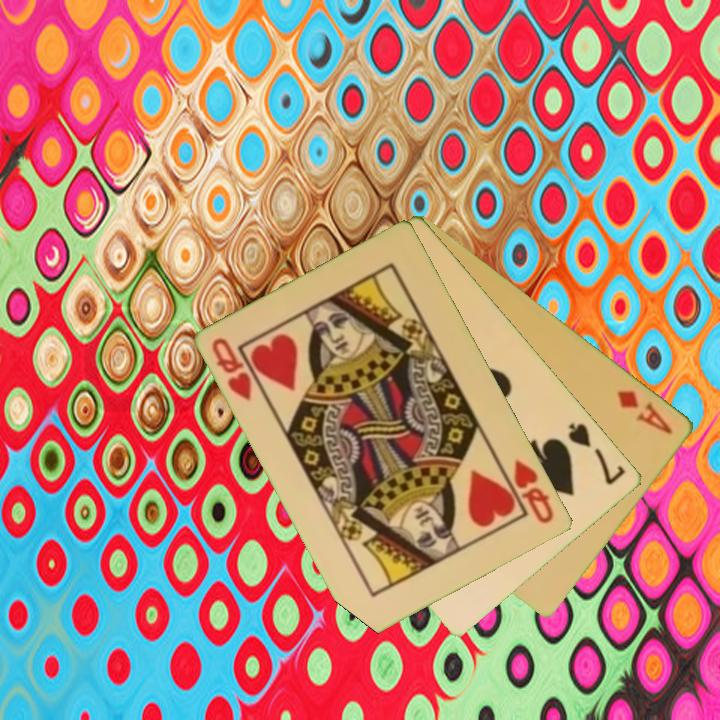7s: (565, 419, 629, 488)
Ad: (614, 386, 677, 438)
Qh: (208, 334, 256, 404), (510, 456, 557, 527)
